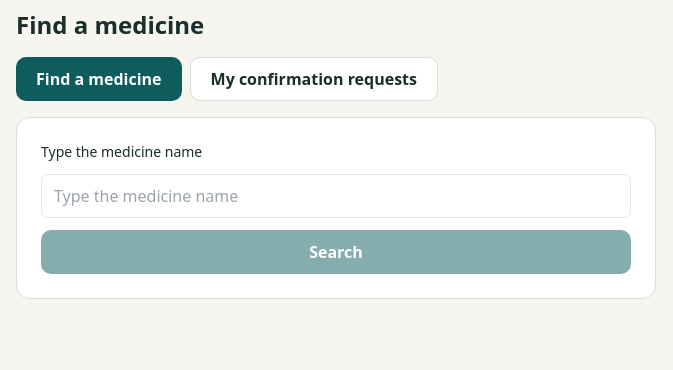
Test: pharmacy finder: search + identity › renders search and matches paracetamol without rewriting the query
The width and height of the screenshot is (673, 370).
In the field labelled "Type the medicine name": {"x": 336, "y": 196} left=41, top=174, right=631, bottom=218, type "Paracetamol"
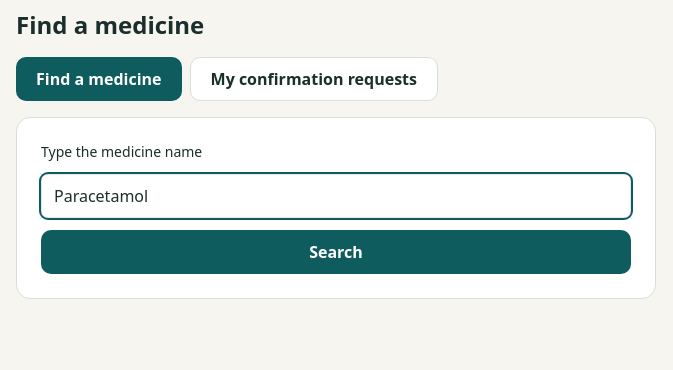
Click the button "Search": {"x": 336, "y": 252} left=41, top=230, right=631, bottom=274
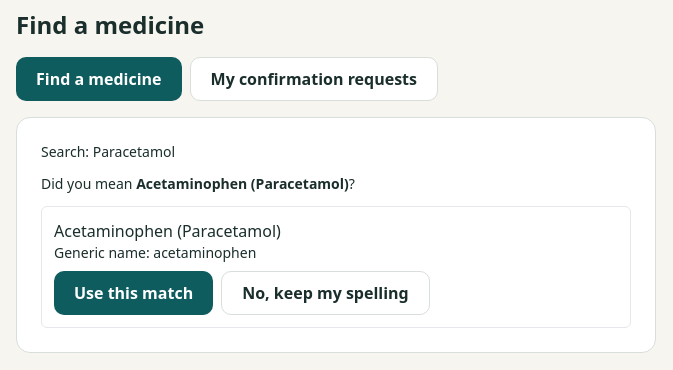
Expected: the text "Paracetamol" is shown, left=93, top=142, right=175, bottom=161
